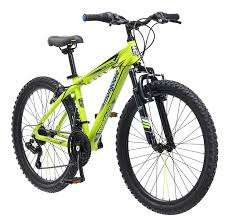bicycle: (6, 7, 224, 218)
